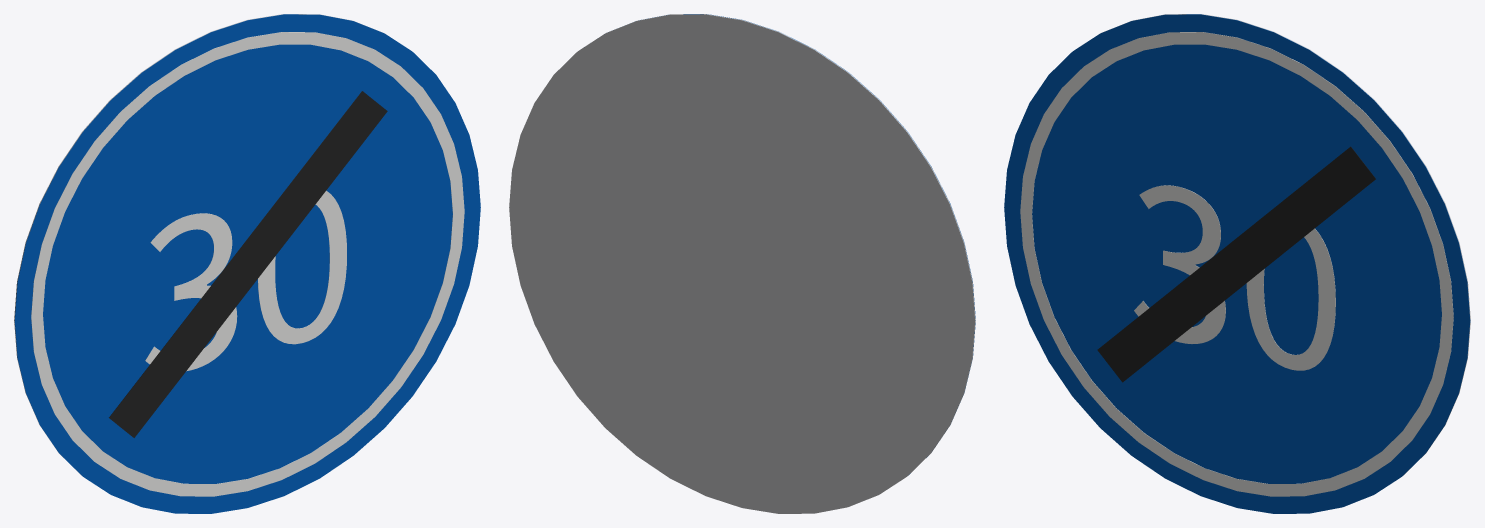
3 renders of one model, left to right at view 1: azimuth 30°, elevation 25°; view 2: azimuth 150°, elevation 25°; view 3: azimuth 330°, elevation 25°, orthographic.
Visible parts, largest first — view 1: B43_d00, B43_o01, B43_p03, B43_txt02, B43_dos; view 2: B43_dos; view 3: B43_d00, B43_o01, B43_p03, B43_txt02, B43_dos.
Part boxes in pixels (x1,y1,x2,y2): B43_d00: (14,14,480,513); B43_o01: (31,32,464,496); B43_p03: (109,91,387,437); B43_txt02: (145,190,346,371); B43_dos: (14,14,383,475); B43_dos: (509,14,975,513); B43_d00: (1004,14,1470,513); B43_o01: (1020,32,1453,496); B43_p03: (1097,146,1375,382); B43_txt02: (1134,185,1335,370); B43_dos: (1101,14,1470,475).
Size of the model in its own units: 0.65 by 0.65 by 0.0029.
